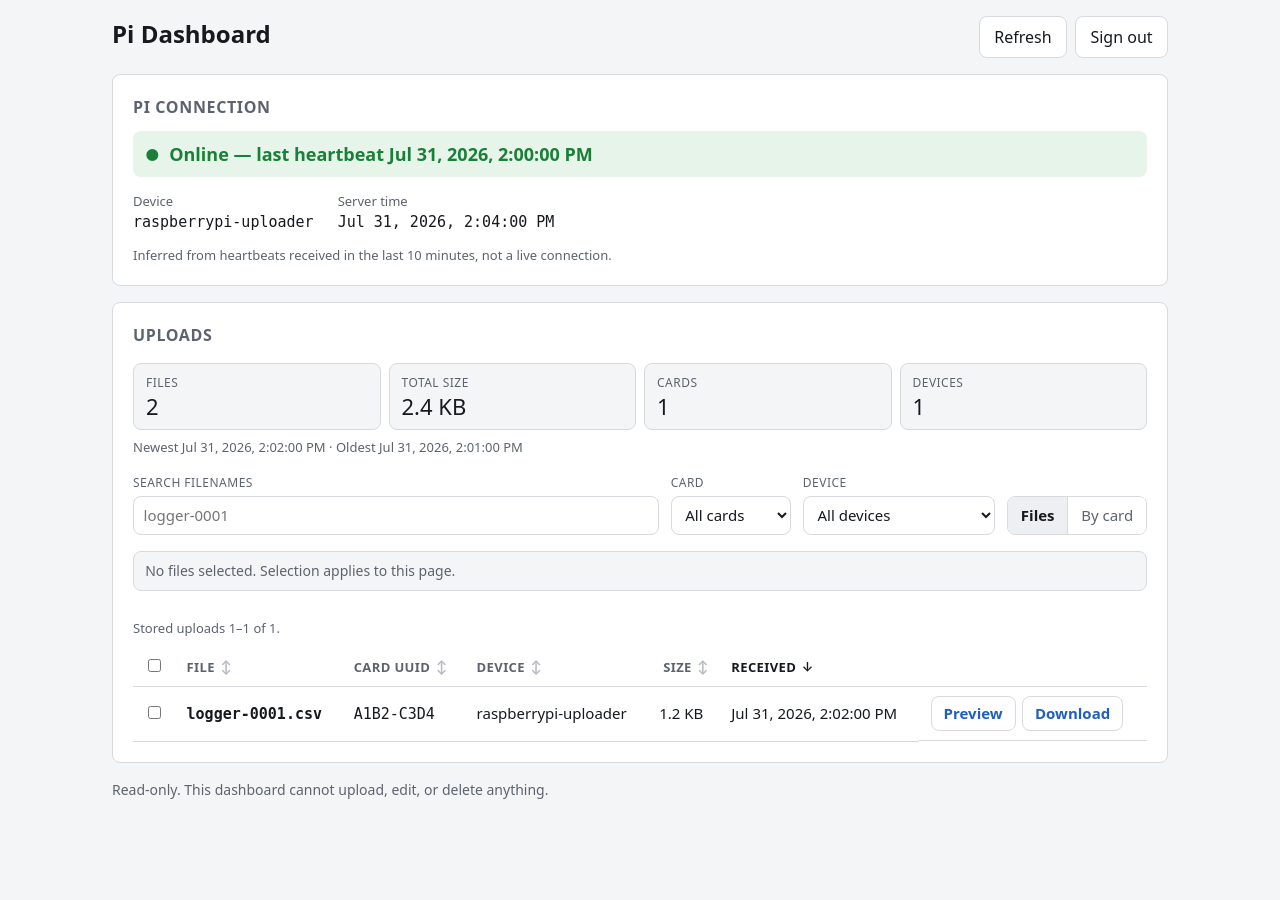
Scenario: single file download › reports a server failure without saving anything
The image size is (1280, 900).
Click the button with aria-label "Download logger-0001" at [1073, 713], box [1022, 696, 1123, 731]
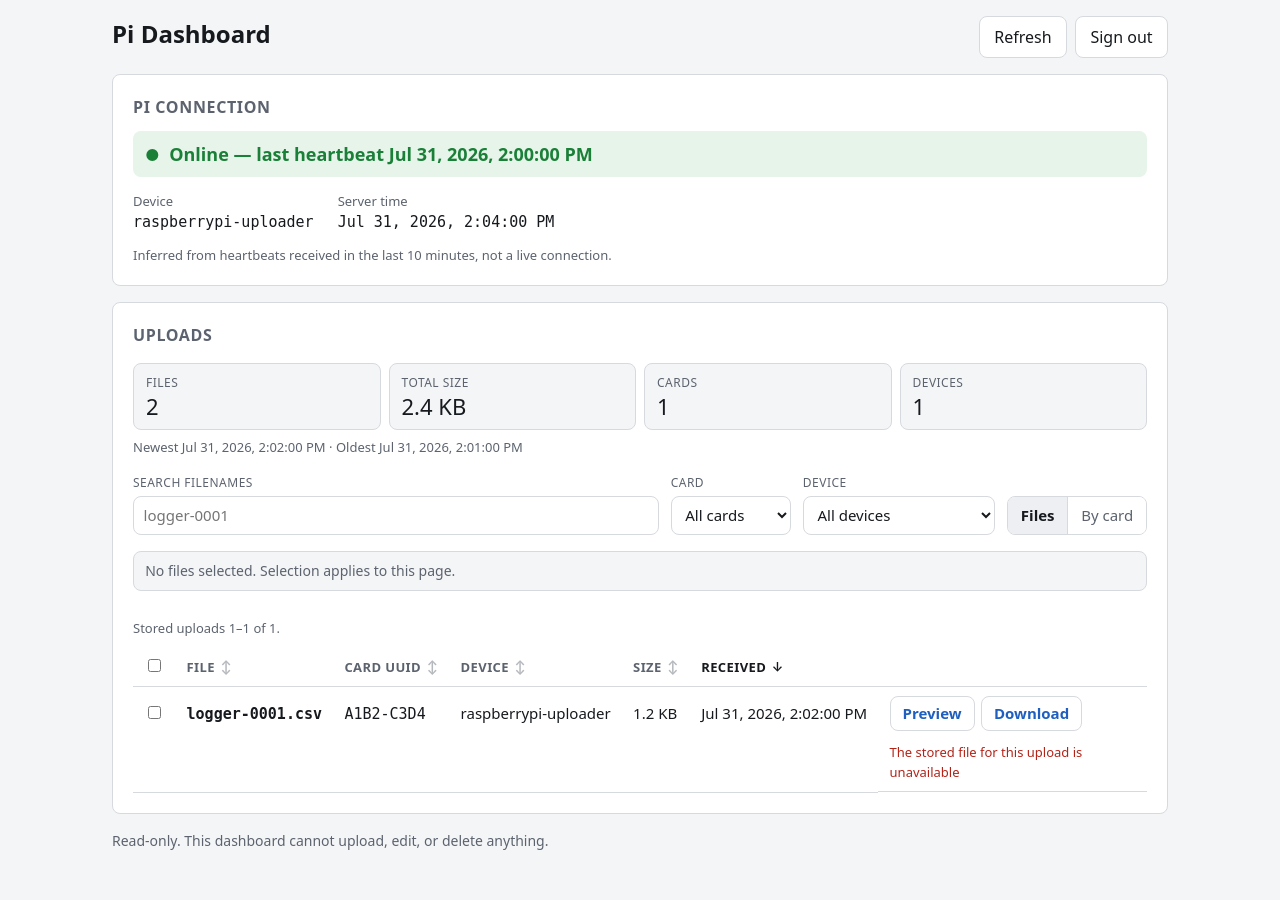
Check: the table is shown, box [133, 619, 1147, 793]
Check: the message "The stored file for this upload is unavailable" is shown, box [890, 743, 1082, 781]
